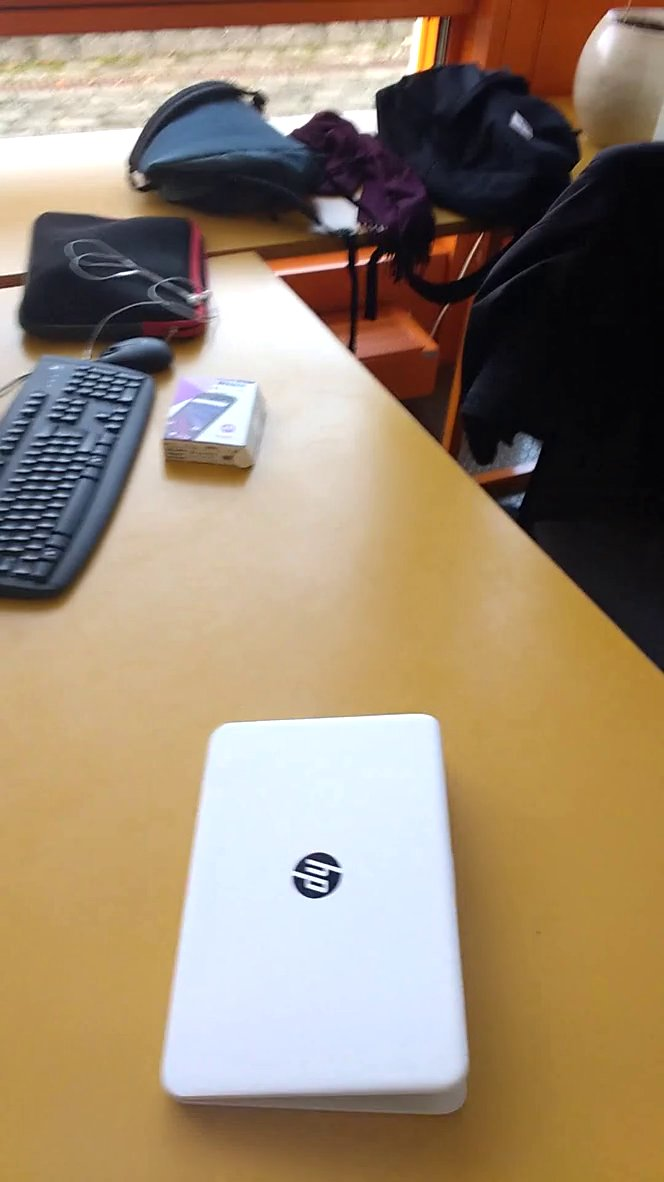bag: (369, 50, 609, 270), (118, 68, 329, 233)
laptop: (104, 708, 490, 1133)
